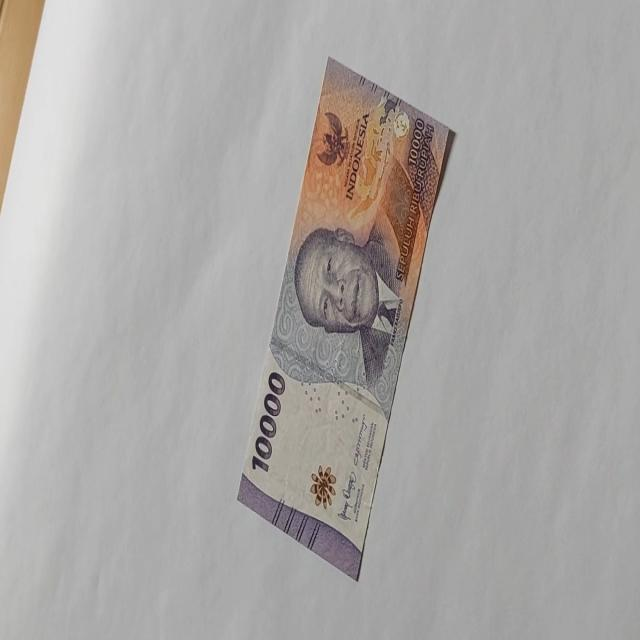sepuluh ribu rupiah: (236, 55, 454, 581), (292, 223, 401, 387)
